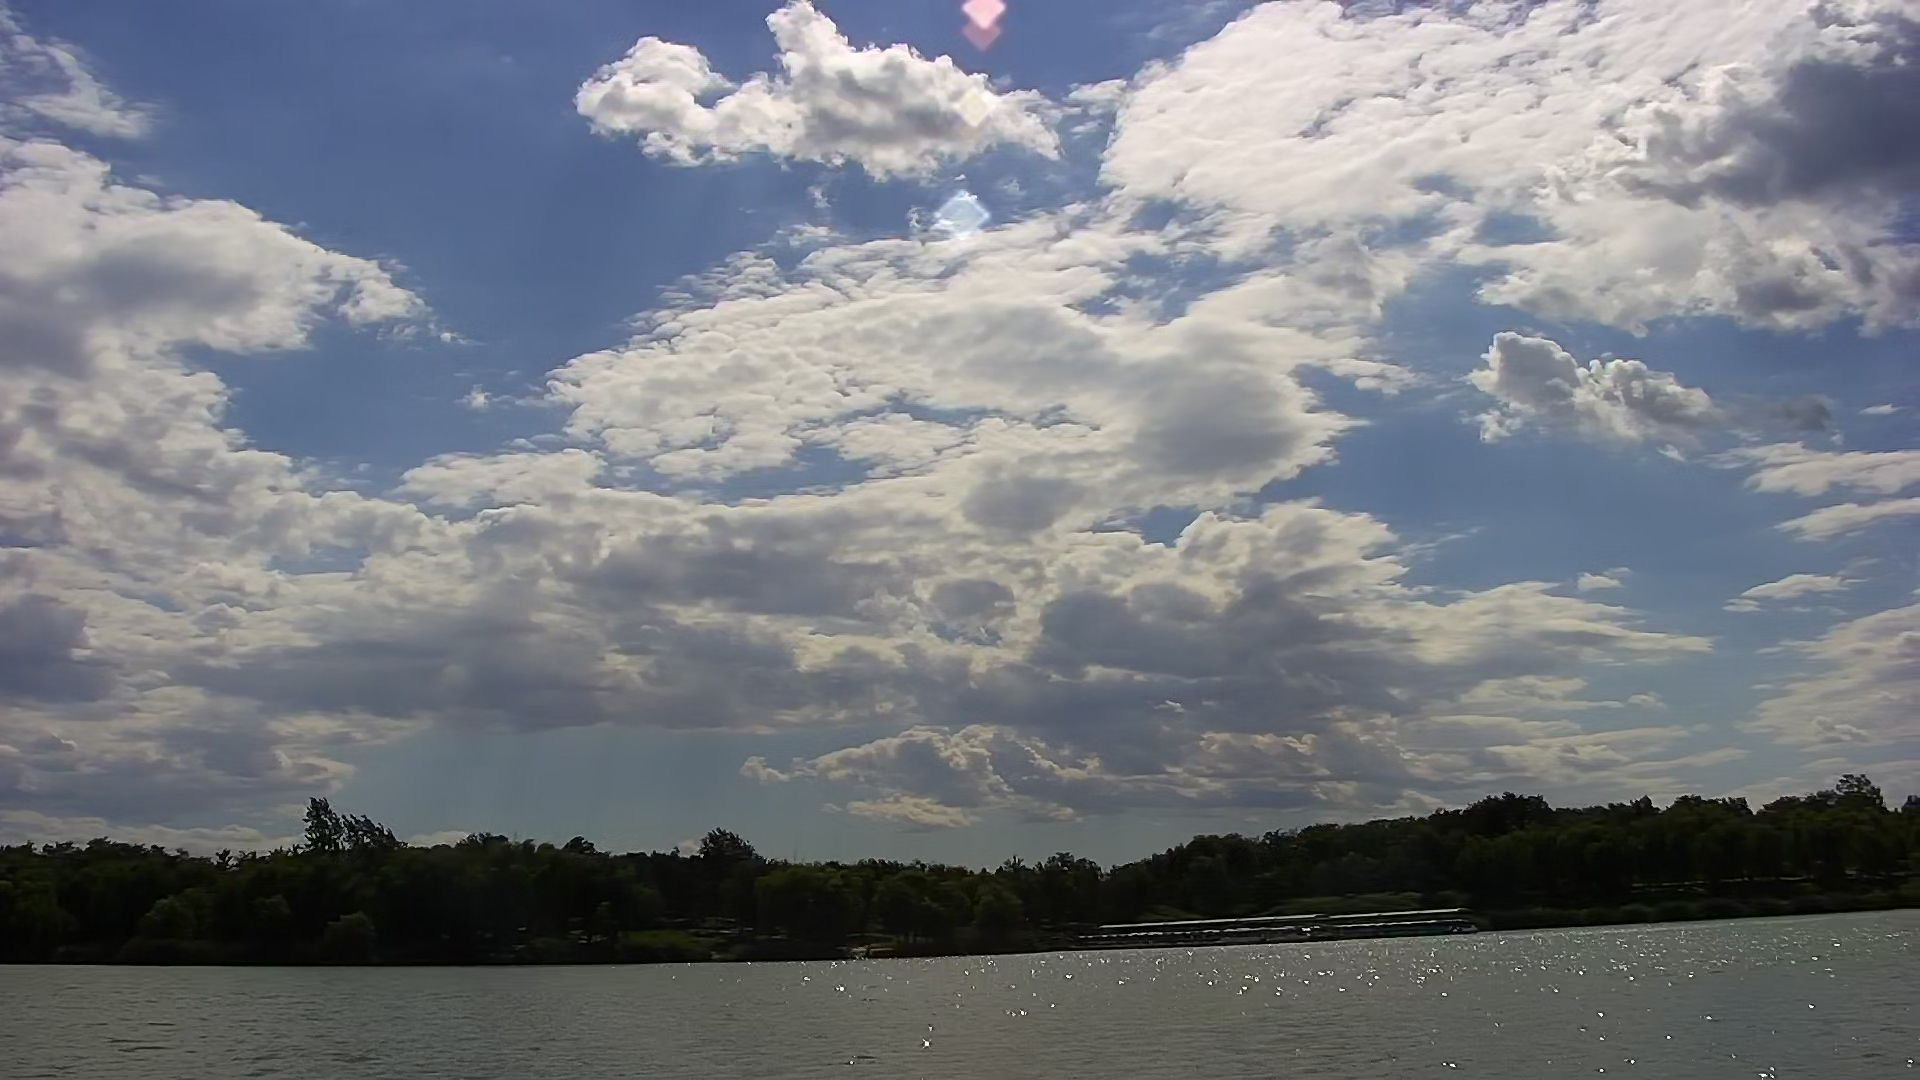harbor: (1054, 887, 1484, 956)
